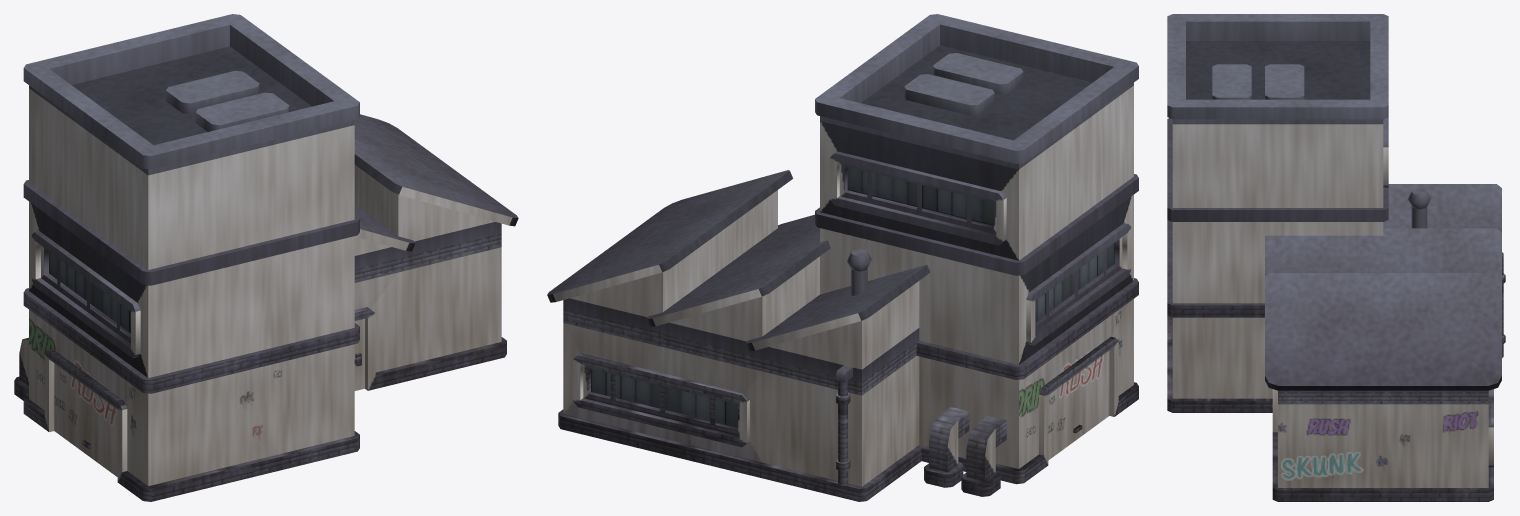
The model's file is building-g-white-scuffed.glb.
3 renders of one model, left to right at view 1: azimuth 30°, elevation 25°; view 2: azimuth 150°, elevation 25°; view 3: azimuth 270°, elevation 25°, orthographic. The views are drawn at different scales.
Parts seen in each view (by area): view 1: building-g; view 2: building-g; view 3: building-g.
Part boxes in pixels (bbox=[...]): building-g: bbox=[14, 14, 518, 501]; building-g: bbox=[547, 14, 1138, 501]; building-g: bbox=[1167, 14, 1505, 501].
Bounding box in the file's own units: 1.68 × 1.28 × 1.28.
1 material, 1 textured.
